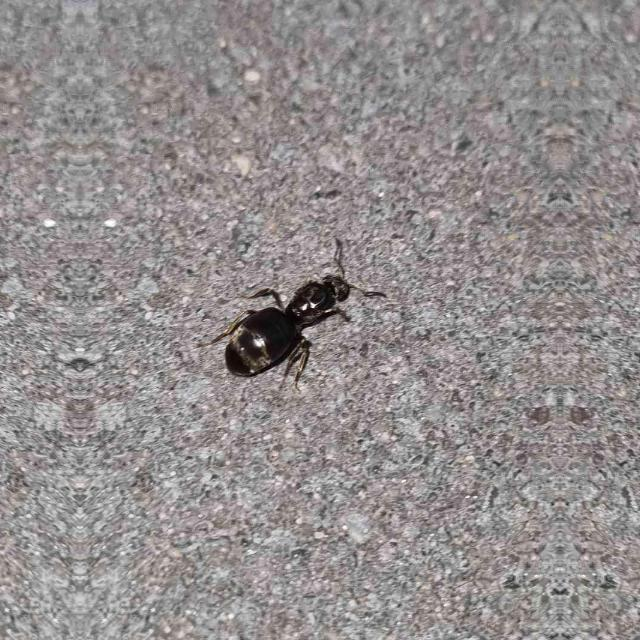Lasius: (208, 244, 374, 386)
